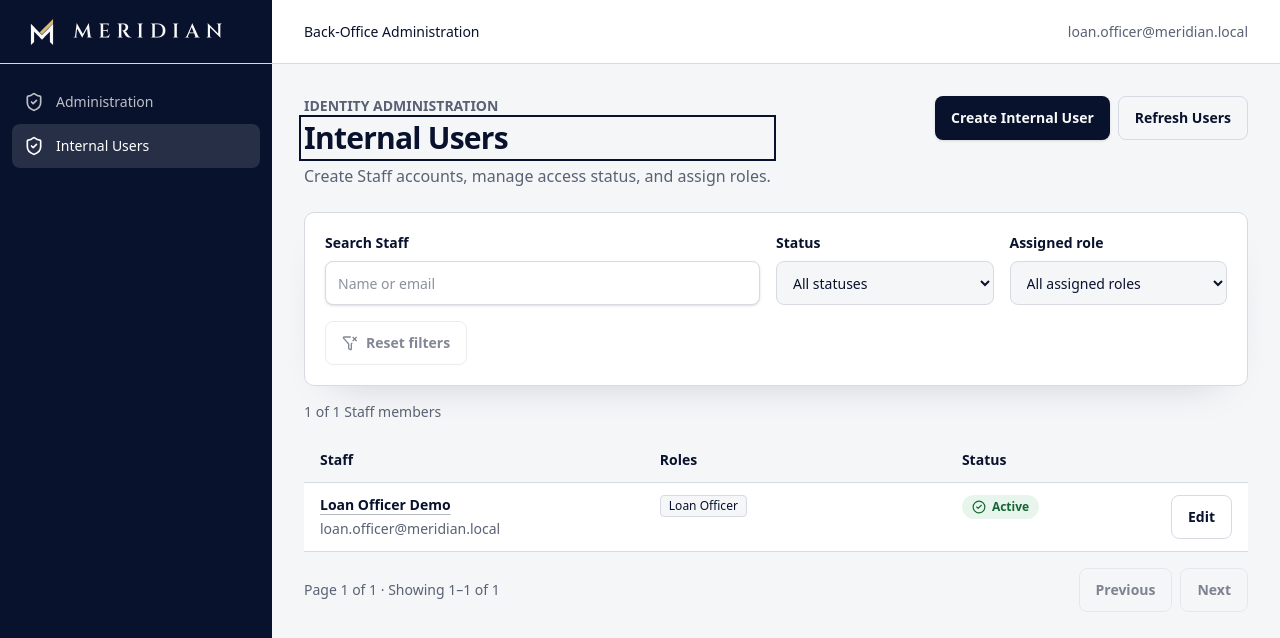
Test case: Internal User administration page › creates a Staff User with backend roles and refreshes the authoritative list without a password field
Expected: the button with aria-label "Manage Loan Officer Demo" is shown, [320,495,451,515]
Click the button "Create Internal User": x=1022, y=118 [935,96,1110,140]
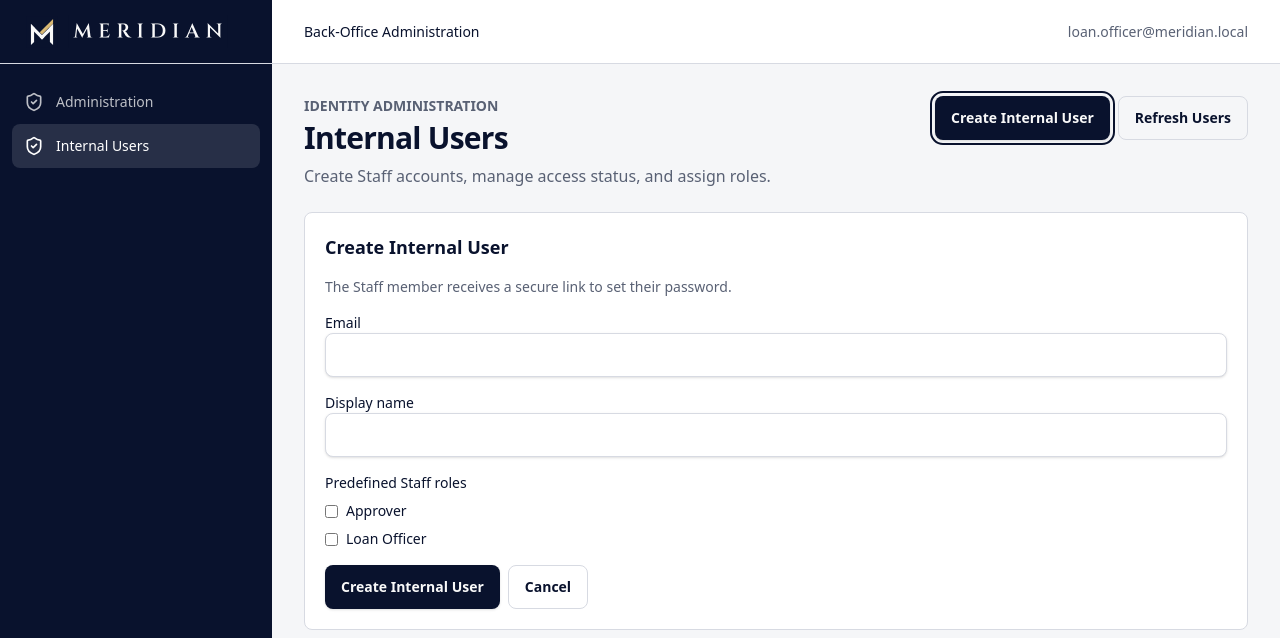
Result: the text "The Staff member receives a secure link to set their password." is shown at [325,277,732,296]
In the field labelled "Email": x=776, y=355 [325,333,1227,377], type "NEW@MERIDIAN.LOCAL"
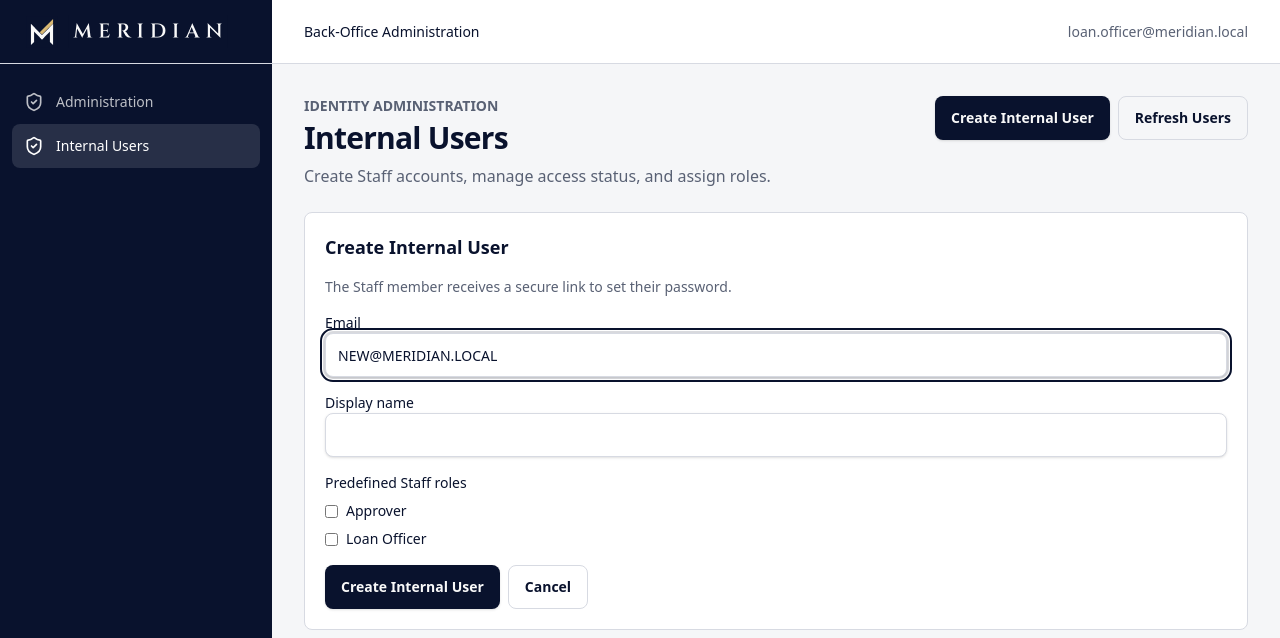
In the field labelled "Display name": x=776, y=435 [325,413,1227,457], type "New Staff"
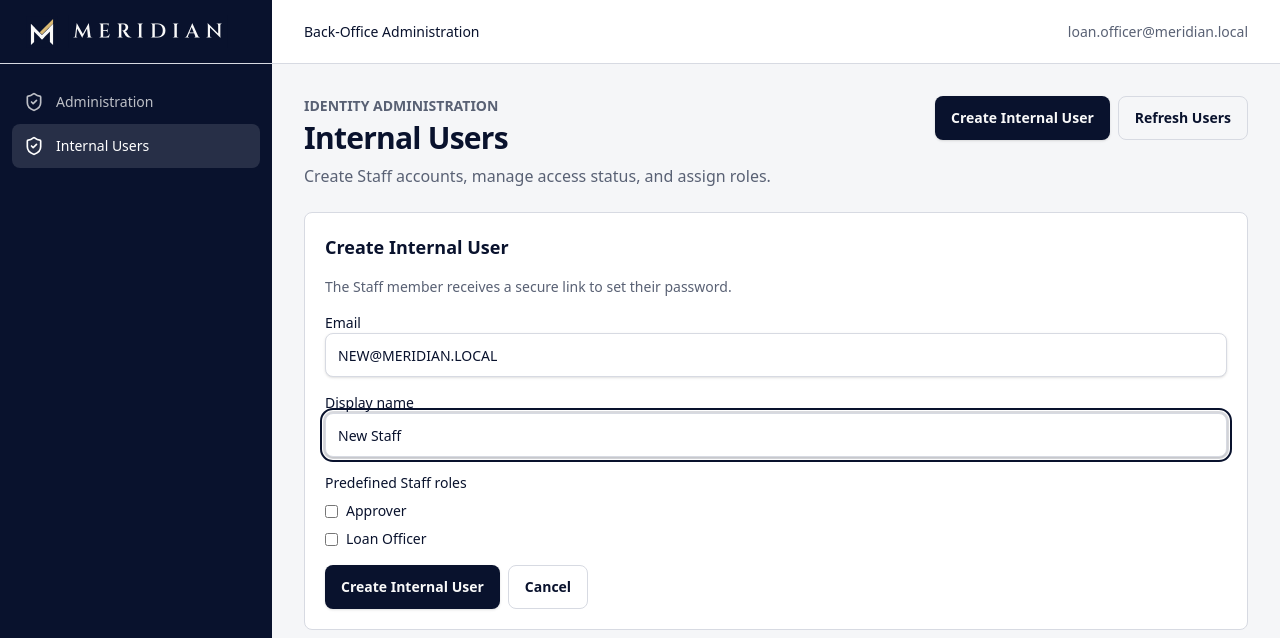
Click the checkbox labelled "Approver": x=332, y=511 [325,504,338,518]
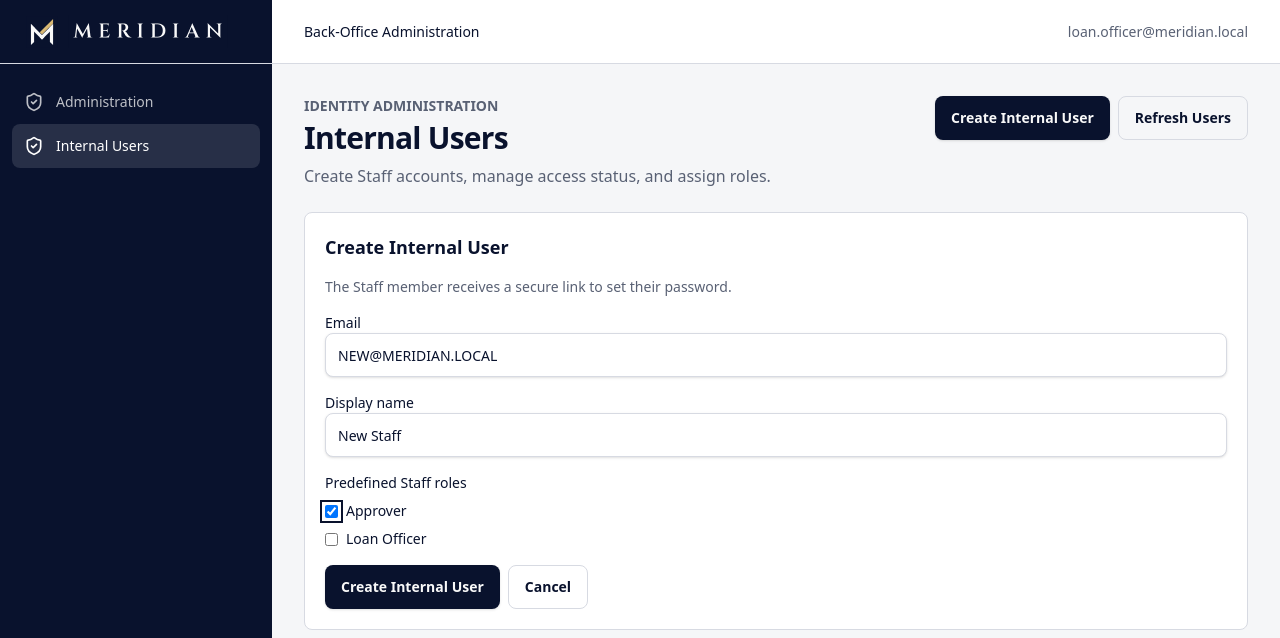
Click the button "Create Internal User" below "Approver": x=412, y=587 [325,565,500,609]
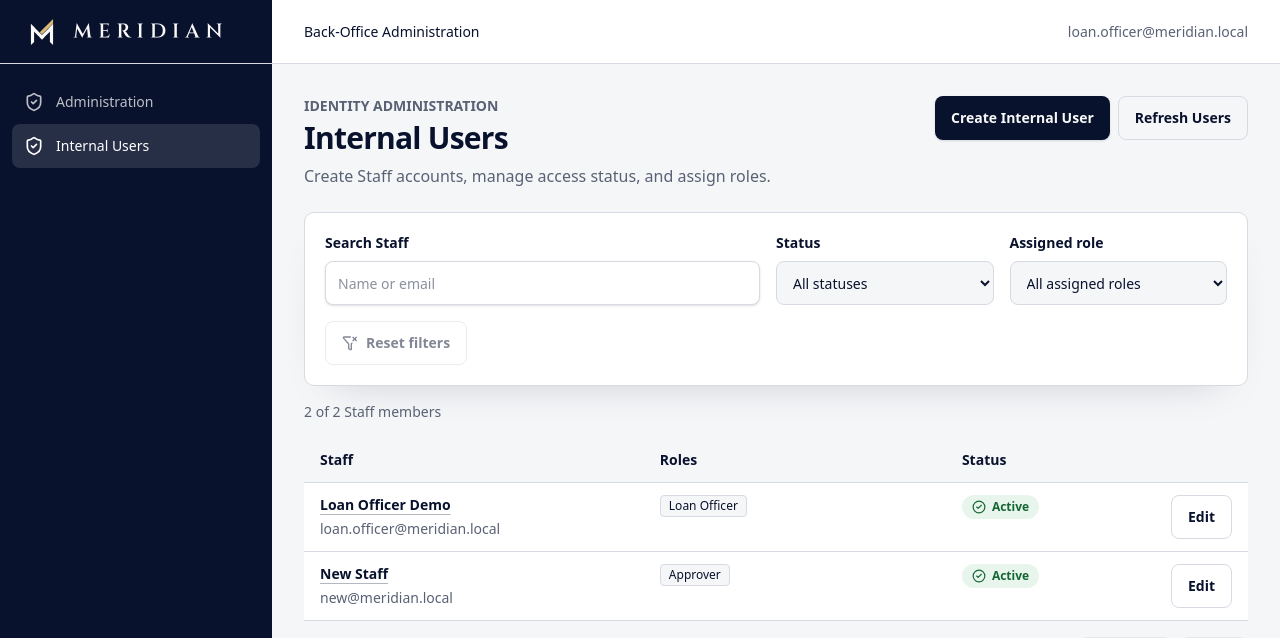
Result: the button with aria-label "Manage New Staff" is shown at [320,564,388,584]
